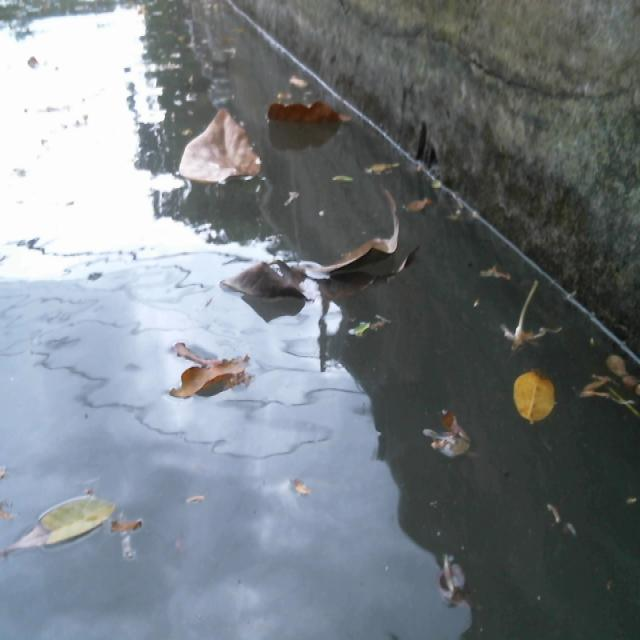Big-leaf: (219, 177, 410, 311), (175, 108, 269, 189), (170, 333, 259, 415), (255, 93, 356, 134)
Small-leaf: (0, 484, 128, 561), (422, 392, 482, 480), (506, 358, 562, 439), (425, 547, 468, 606), (282, 446, 320, 499), (105, 504, 152, 546), (345, 324, 397, 356), (360, 154, 408, 186), (265, 184, 304, 221), (288, 61, 324, 96), (408, 191, 439, 227), (178, 487, 211, 510), (428, 172, 451, 197), (332, 168, 355, 191)
